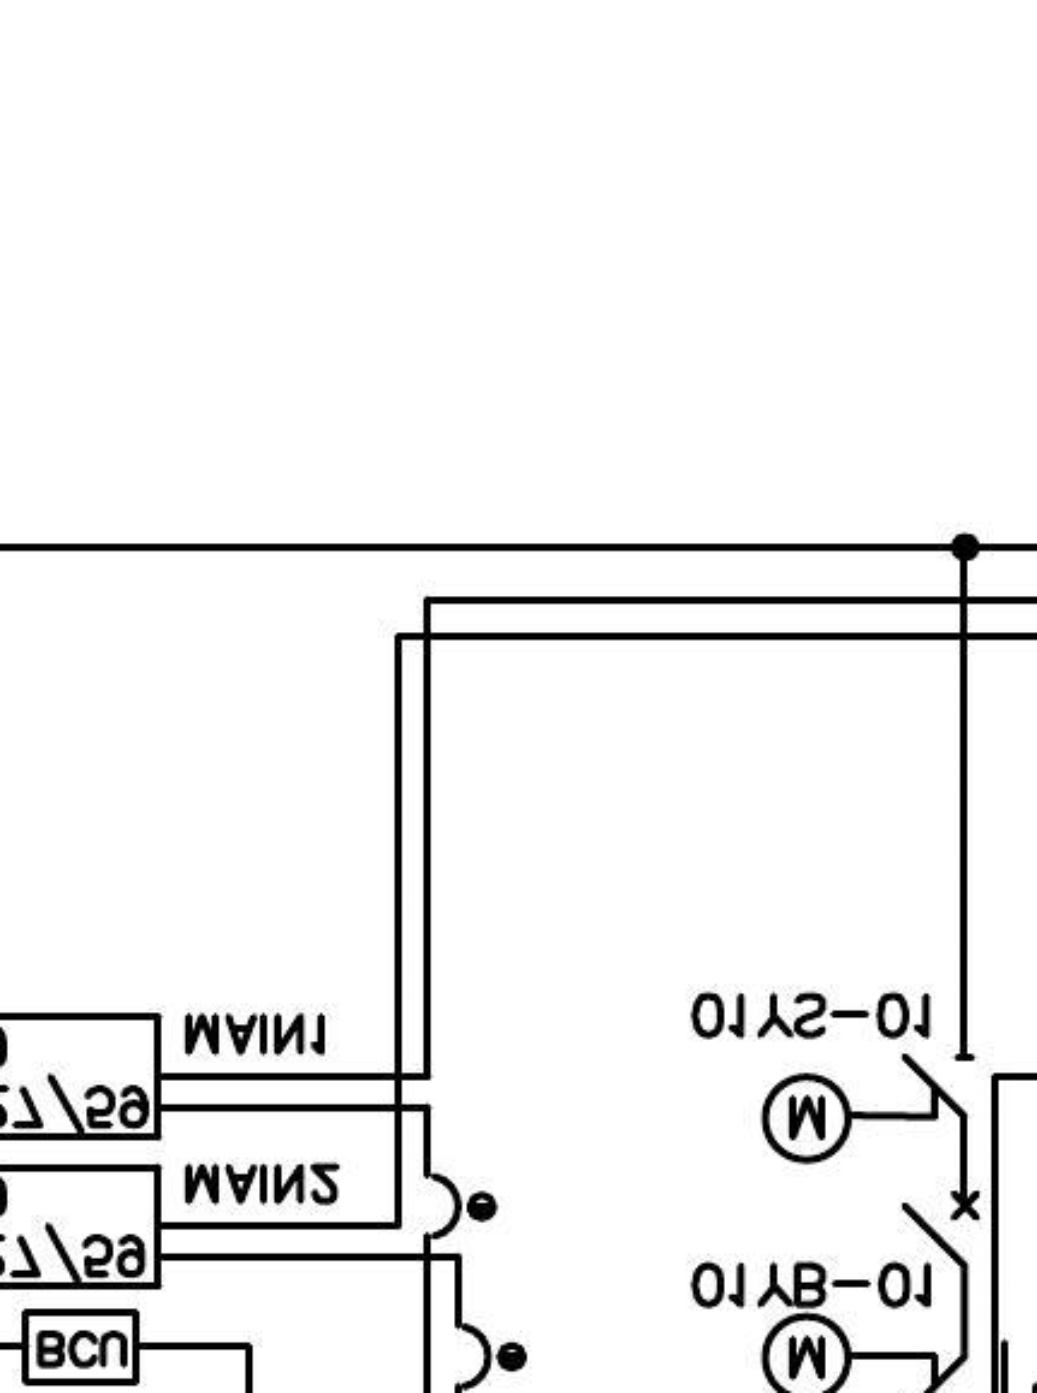115_1way_ds_w_motor: (759, 1052, 977, 1165)
115_breaker: (901, 1190, 980, 1269)
BCU: (20, 1307, 142, 1388)
